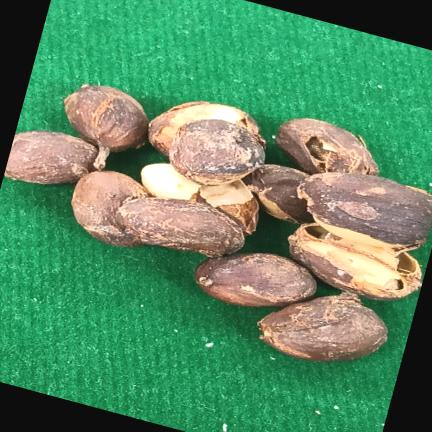husk: (288, 218, 421, 300), (297, 172, 432, 247), (257, 292, 387, 361), (115, 197, 244, 257), (63, 84, 148, 169), (194, 253, 316, 306), (148, 101, 265, 156), (169, 119, 264, 186), (276, 118, 378, 175), (71, 171, 147, 247), (4, 130, 97, 184), (243, 164, 313, 224), (140, 163, 199, 199), (199, 179, 252, 207)
